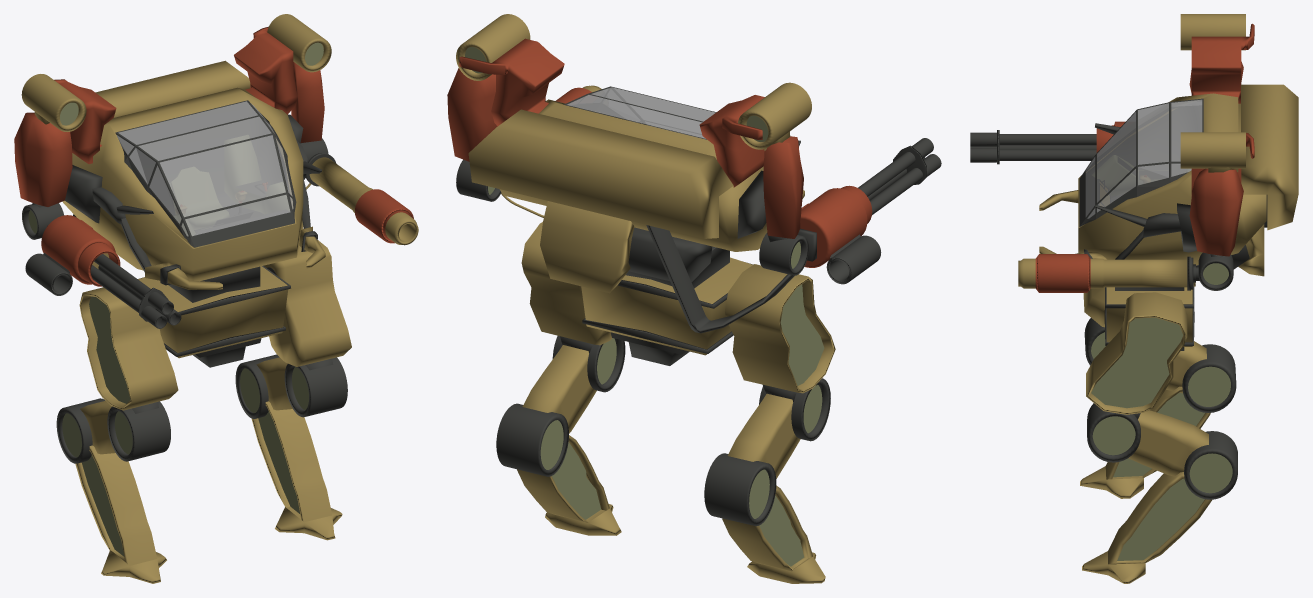
File: Robot COLOR.fbx
3 renders of one model, left to right at view 1: azimuth 30°, elevation 25°; view 2: azimuth 150°, elevation 25°; view 3: azimuth 270°, elevation 25°, orthographic. The views are drawn at different scales.
Visible parts, largest first — view 1: RobotBody.002, RobotLegsRight.001, RobotArmsRight(Machinegun).001, HousingWindows, RobotArmsLeft(FlameThrower, RobotLegsLeft.007, RobotLegsLeft.003, RobotArmsRight(Machinegun).002, RobotLegsLeft.001, RobotLegsLeft.006, RobotLegsLeft.002, RobotLegsRight.002 (+2 smaller); view 2: RobotBody.002, RobotLegsRight.001, RobotArmsRight(Machinegun).001, RobotArmsLeft(FlameThrower, RobotLegsLeft.007, RobotLegsLeft.001, HousingWindows, RobotLegsLeft.005, RobotLegsLeft.004, RobotArmsRight(Machinegun).002, RobotLegsLeft.003, RobotLegsLeft.002 (+2 smaller); view 3: RobotBody.002, RobotArmsLeft(FlameThrower, HousingWindows, RobotLegsLeft.007, RobotLegsRight.001, RobotArmsRight(Machinegun).001, RobotLegsLeft.003, RobotArmsRight(Machinegun).002, RobotLegsLeft.005, RobotLegsLeft.004, RobotLegsLeft.006, RobotLegsRight.002 (+1 smaller).
Boxes of the visible parts, x1,y1,x2,y2 form: RobotBody.002: (62,60,311,367); RobotLegsRight.001: (56,287,178,565); RobotArmsRight(Machinegun).001: (14,74,222,295); HousingWindows: (115,100,296,247); RobotArmsLeft(FlameThrower: (234,14,418,268); RobotLegsLeft.007: (264,240,351,366); RobotLegsLeft.003: (251,401,331,522); RobotArmsRight(Machinegun).002: (90,253,181,328); RobotLegsLeft.001: (240,267,333,513); RobotLegsLeft.006: (284,357,347,417); RobotLegsLeft.002: (275,506,342,540); RobotLegsRight.002: (101,550,166,583); RobotBody.002: (468,99,767,365); RobotLegsRight.001: (704,264,835,571); RobotArmsRight(Machinegun).001: (646,82,881,333); RobotArmsLeft(FlameThrower: (447,14,601,201); RobotLegsLeft.007: (521,222,611,345); RobotLegsLeft.001: (540,336,616,519); HousingWindows: (563,86,716,139); RobotLegsLeft.005: (522,345,596,433); RobotLegsLeft.004: (496,403,568,476); RobotArmsRight(Machinegun).002: (858,138,941,214); RobotLegsLeft.003: (517,435,609,522); RobotLegsLeft.002: (545,504,621,535); RobotBody.002: (1078,84,1298,350); RobotArmsLeft(FlameThrower: (1018,132,1254,292); HousingWindows: (1079,98,1203,226); RobotLegsLeft.007: (1086,292,1187,414); RobotLegsRight.001: (1083,287,1236,479); RobotArmsRight(Machinegun).001: (1039,14,1267,227); RobotLegsLeft.003: (1108,472,1211,564); RobotArmsRight(Machinegun).002: (970,130,1096,164); RobotLegsLeft.005: (1128,410,1208,478); RobotLegsLeft.004: (1184,431,1237,499); RobotLegsLeft.006: (1087,403,1140,462); RobotLegsRight.002: (1080,466,1143,498).
Size of the model in its own units: 174 by 236 by 156.
